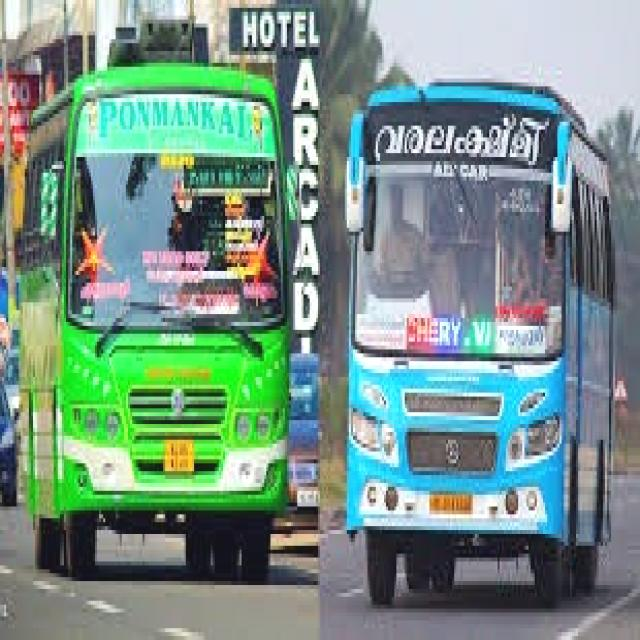bus: (341, 33, 617, 626), (19, 35, 299, 607)
